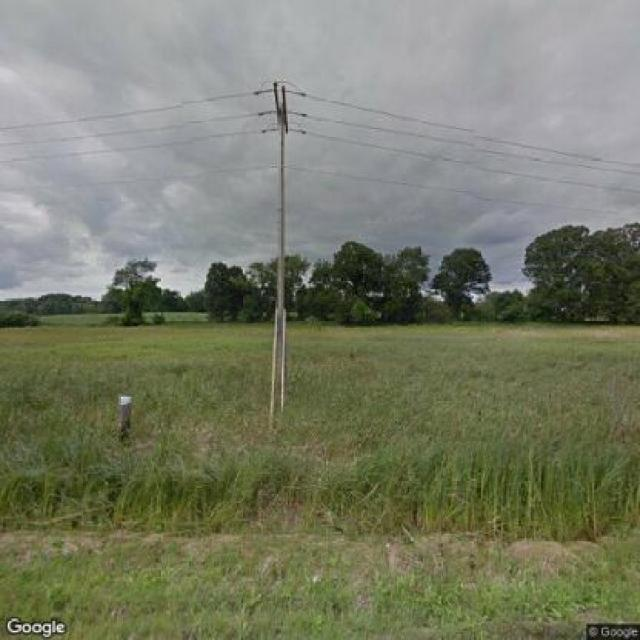pole: (251, 74, 303, 412)
